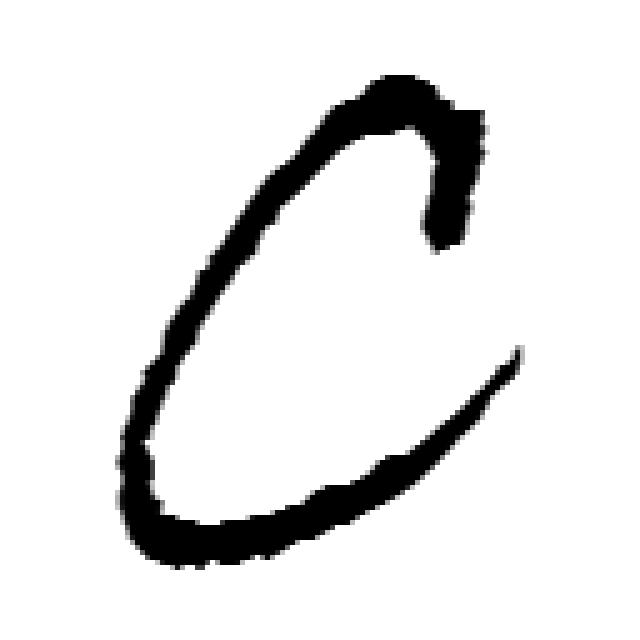C: (115, 75, 530, 570)
